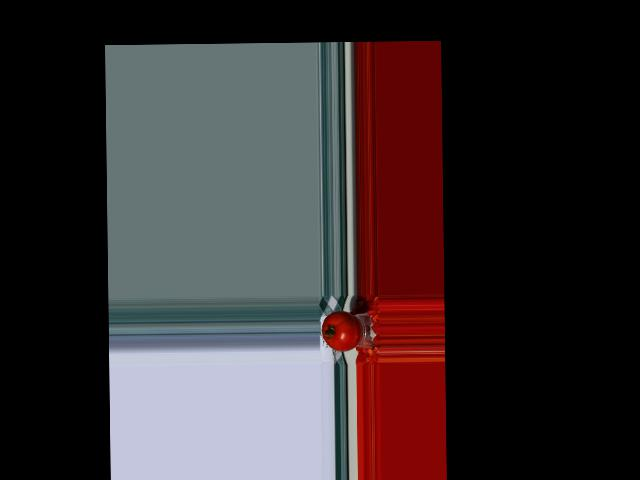tomato: (321, 310, 361, 352)
